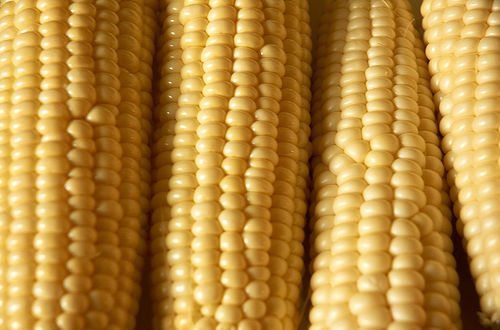corn: (0, 0, 154, 329)
